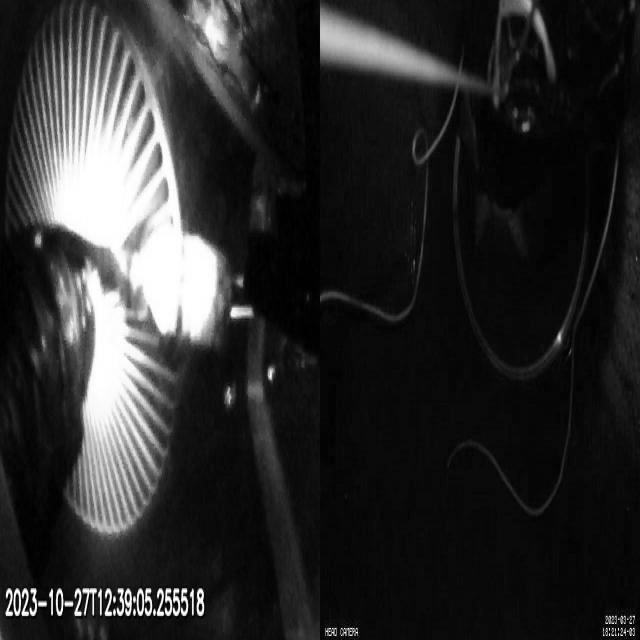head: (143, 222, 229, 346)
